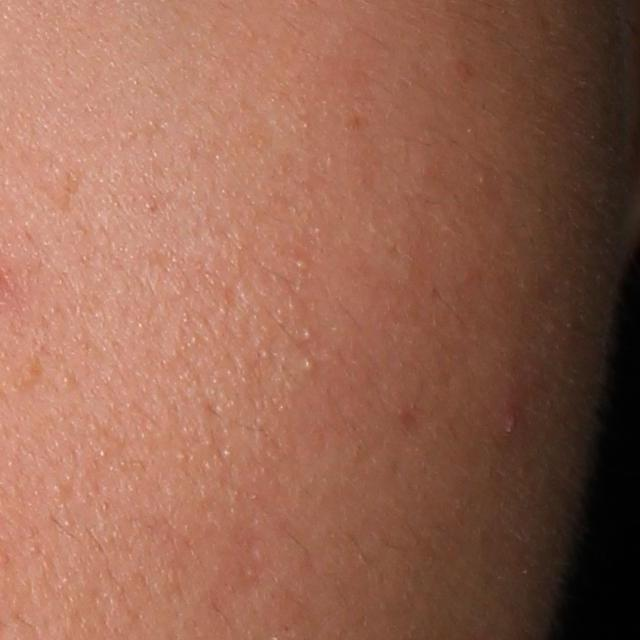comedo: (297, 352, 320, 375)
papule: (494, 409, 520, 447)
